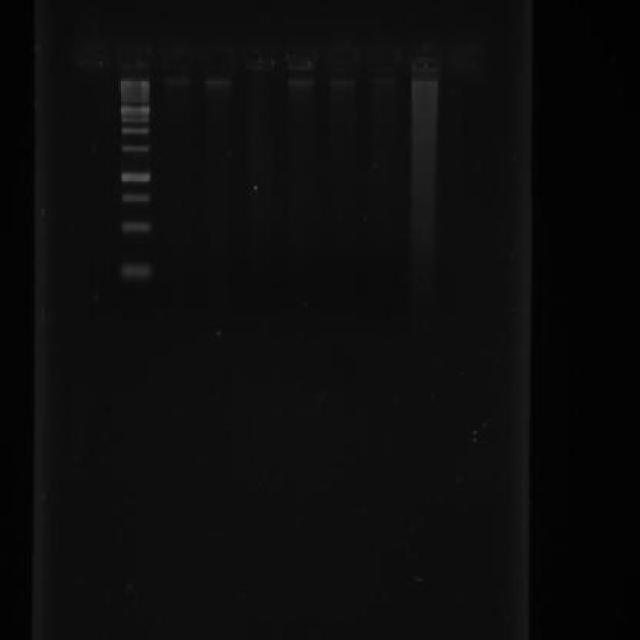B: (409, 78, 440, 88), (203, 78, 234, 87), (162, 77, 192, 86), (328, 78, 357, 87), (286, 78, 314, 87), (368, 77, 394, 86)
L: (106, 32, 445, 76)
M: (113, 76, 156, 286)
P: (117, 262, 151, 281), (118, 88, 152, 104), (118, 220, 152, 234), (118, 104, 152, 118), (119, 192, 152, 206), (119, 170, 152, 183), (118, 78, 151, 89), (118, 126, 150, 137), (118, 144, 151, 154), (118, 116, 152, 124)
Pc: (198, 42, 238, 73), (155, 42, 194, 73), (363, 42, 400, 72), (282, 43, 320, 72), (406, 42, 442, 72), (240, 44, 277, 73), (117, 43, 154, 71), (324, 42, 359, 66)
